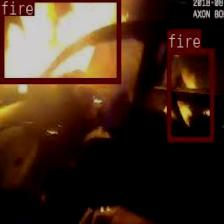fire: (0, 0, 119, 82), (166, 48, 213, 141)
